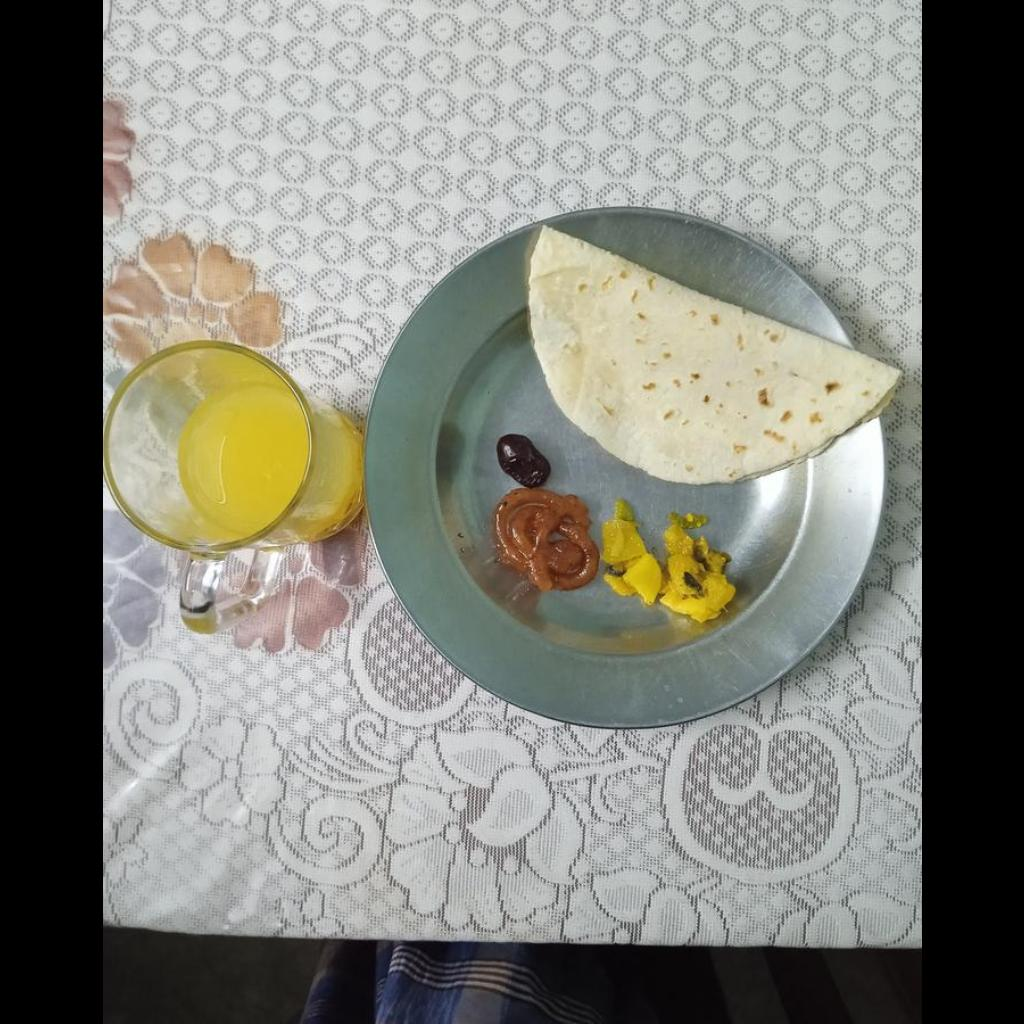dates: (495, 433, 549, 487)
jilapi: (493, 487, 597, 592)
juice: (175, 381, 305, 528)
ruti: (529, 228, 903, 482)
vegetable: (601, 501, 735, 624)
